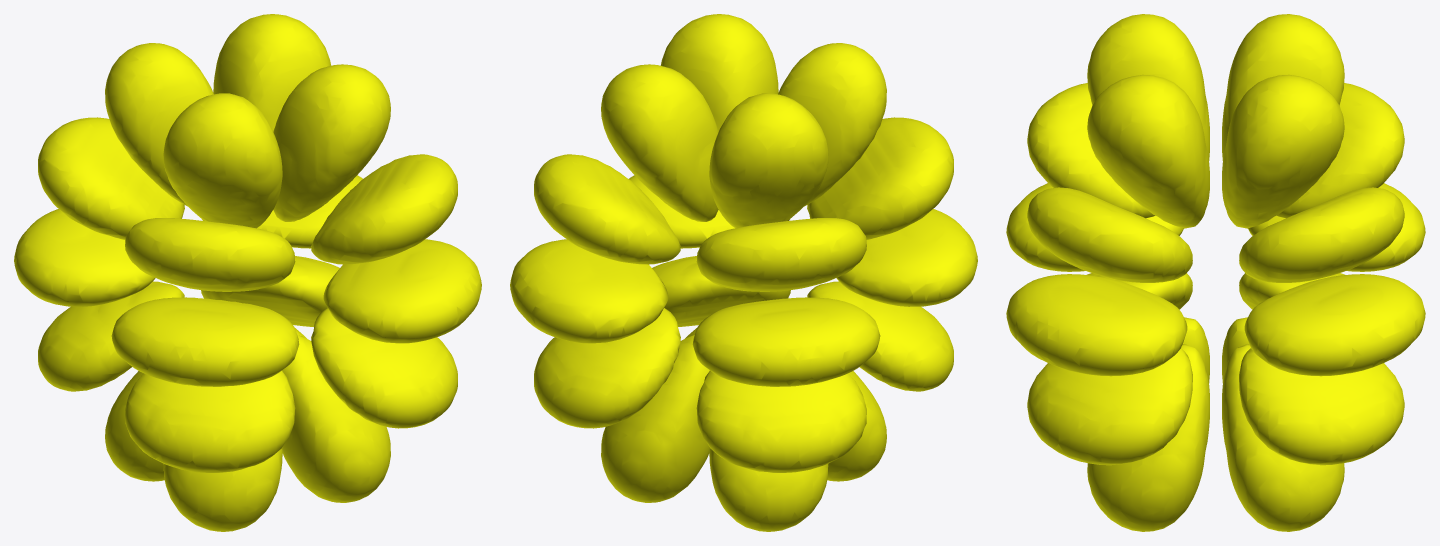
Rendered from orb_n=7_ l=6 _m=-2.fbx.
3 renders of one model, left to right at view 1: azimuth 30°, elevation 25°; view 2: azimuth 150°, elevation 25°; view 3: azimuth 270°, elevation 25°, orthographic. The views are drawn at different scales.
Visible parts, largest first — view 1: orb_n=7_ l=6 _m=-2; view 2: orb_n=7_ l=6 _m=-2; view 3: orb_n=7_ l=6 _m=-2.
Boxes of the visible parts, x1,y1,x2,y2 form: orb_n=7_ l=6 _m=-2: (14,14,481,531); orb_n=7_ l=6 _m=-2: (510,14,977,531); orb_n=7_ l=6 _m=-2: (1006,14,1425,531).
Bounding box in the file's own units: 13324 × 15708 × 13324.
